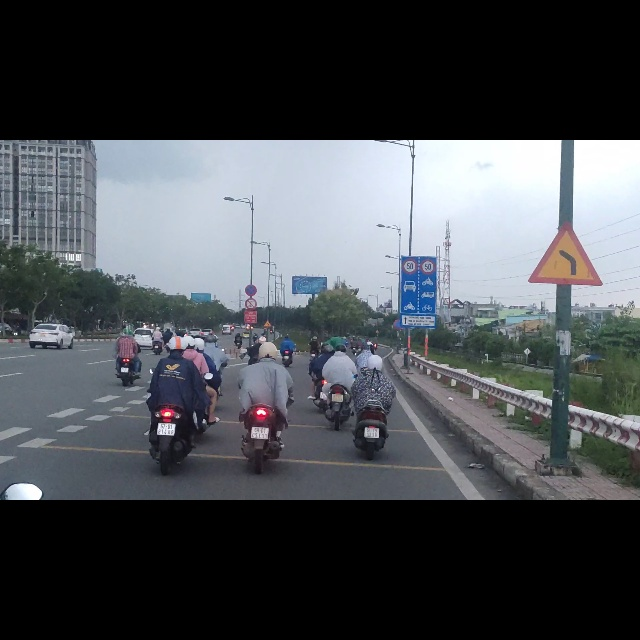bien_cam: (529, 138, 604, 261), (419, 210, 437, 239), (402, 212, 418, 240), (244, 255, 257, 279), (245, 280, 257, 302), (263, 319, 272, 333)
